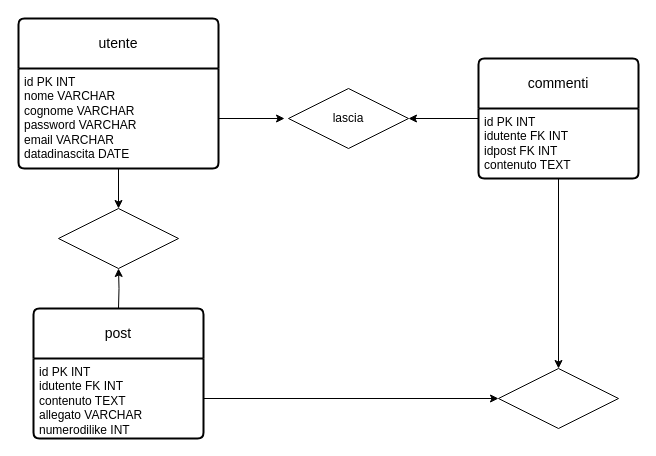
The diagram is 656 pixels wide and 456 high, and some of its shapes have lost their labels. The centre of each missing label's shape, as x and y in pixels:
contiene: [558,398]
pubblica: [118,238]
